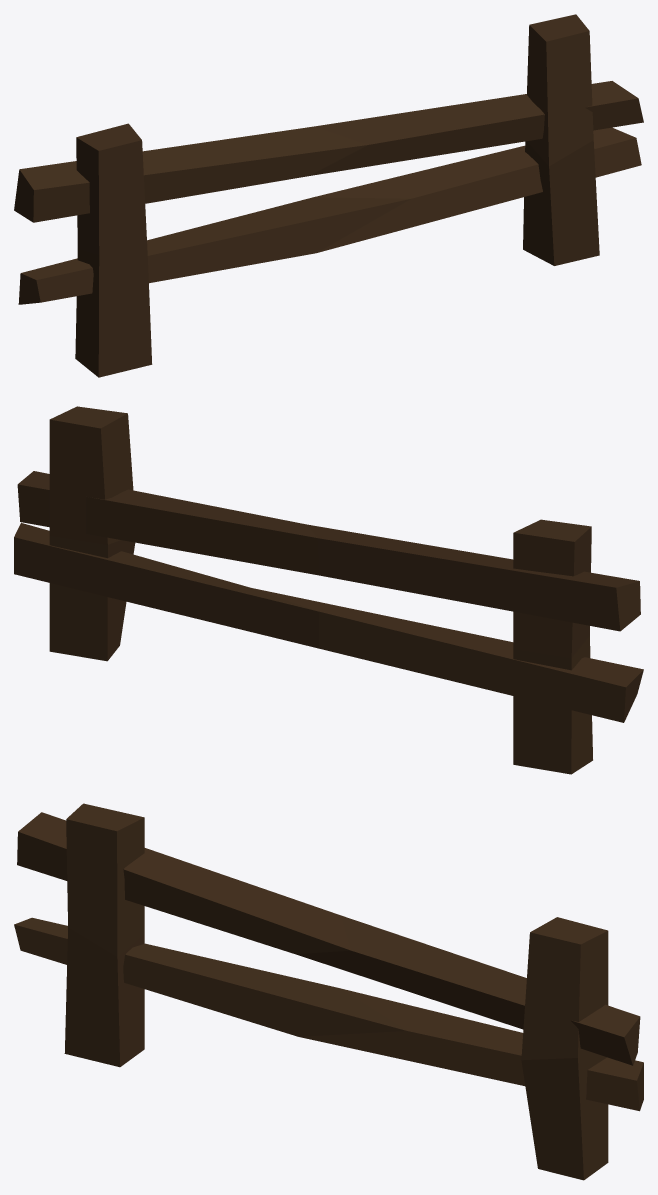
Rendered from fence_02.fbx.
The picture shows the model from 3 angles, top to bottom: view 1: azimuth 30°, elevation 25°; view 2: azimuth 150°, elevation 25°; view 3: azimuth 330°, elevation 25°; orthographic projection. The views are drawn at different scales.
Parts seen in each view (by area): view 1: Cube.002, Cube.004, Cube, Cube.001; view 2: Cube.004, Cube.002, Cube.001, Cube; view 3: Cube.002, Cube.004, Cube.001, Cube.
Part boxes in pixels (box(x1,y1,x2,y2)): Cube.002: box(14, 81, 643, 222); Cube.004: box(18, 127, 641, 304); Cube: box(75, 123, 152, 377); Cube.001: box(523, 14, 599, 265); Cube.004: box(14, 523, 643, 722); Cube.002: box(17, 471, 640, 631); Cube.001: box(49, 406, 135, 661); Cube: box(513, 519, 592, 774); Cube.002: box(17, 812, 640, 1065); Cube.004: box(14, 917, 643, 1111); Cube.001: box(521, 917, 608, 1180); Cube: box(64, 803, 144, 1067).
Size of the model in its own units: 750 by 268 by 73.26.
